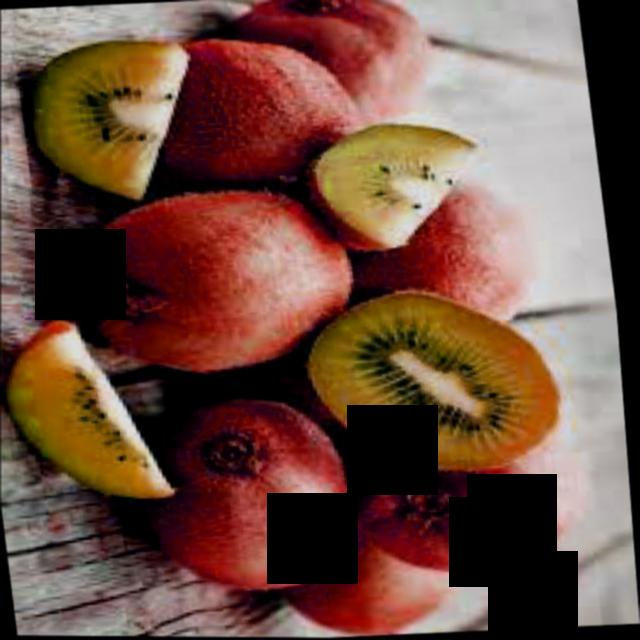kiwi: (76, 185, 365, 379), (162, 389, 370, 599), (170, 30, 378, 188), (369, 434, 581, 587), (355, 180, 553, 332), (235, 2, 447, 133), (275, 556, 456, 640)
